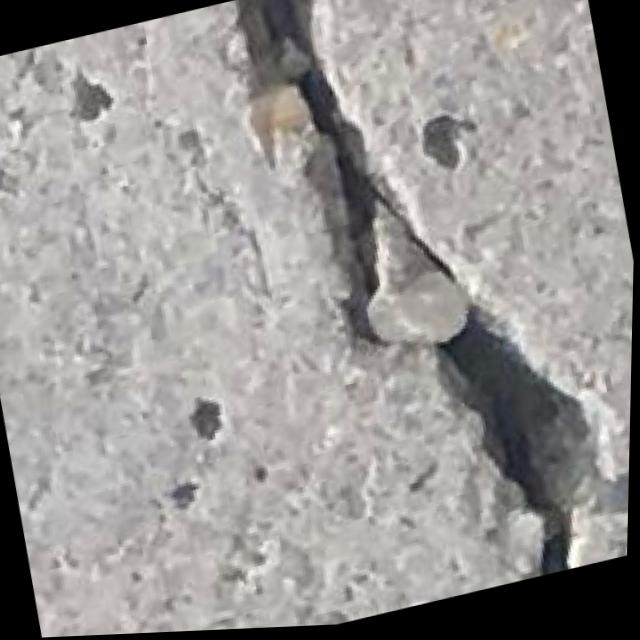Crack: (200, 0, 640, 633)
